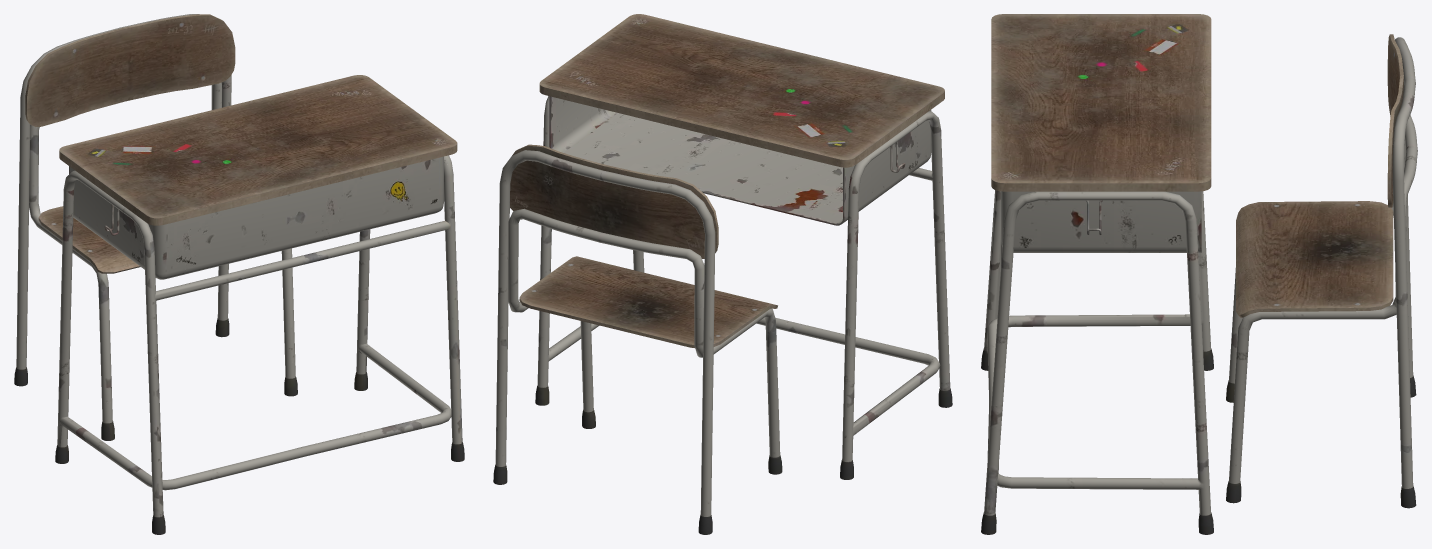
File: cn_desk.glb
3 renders of one model, left to right at view 1: azimuth 30°, elevation 25°; view 2: azimuth 150°, elevation 25°; view 3: azimuth 270°, elevation 25°, orthographic. The views are drawn at different scales.
Visible parts, largest first — view 1: tabletop_lp_uvs_0; view 2: tabletop_lp_uvs_0; view 3: tabletop_lp_uvs_0.
Part boxes in pixels (x1,y1,x2,y2): tabletop_lp_uvs_0: (14,14,464,534); tabletop_lp_uvs_0: (493,14,952,534); tabletop_lp_uvs_0: (981,14,1417,534).
Size of the model in its own units: 0.7624 by 0.7803 by 0.825.
Materials: 1 (1 with a texture image).
